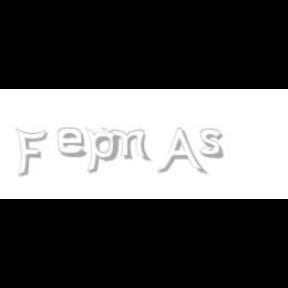A: (157, 128, 205, 176)
F: (15, 128, 47, 178)
e: (57, 128, 90, 158)
m: (100, 128, 152, 162)
p: (86, 128, 122, 174)
s: (200, 128, 228, 160)
